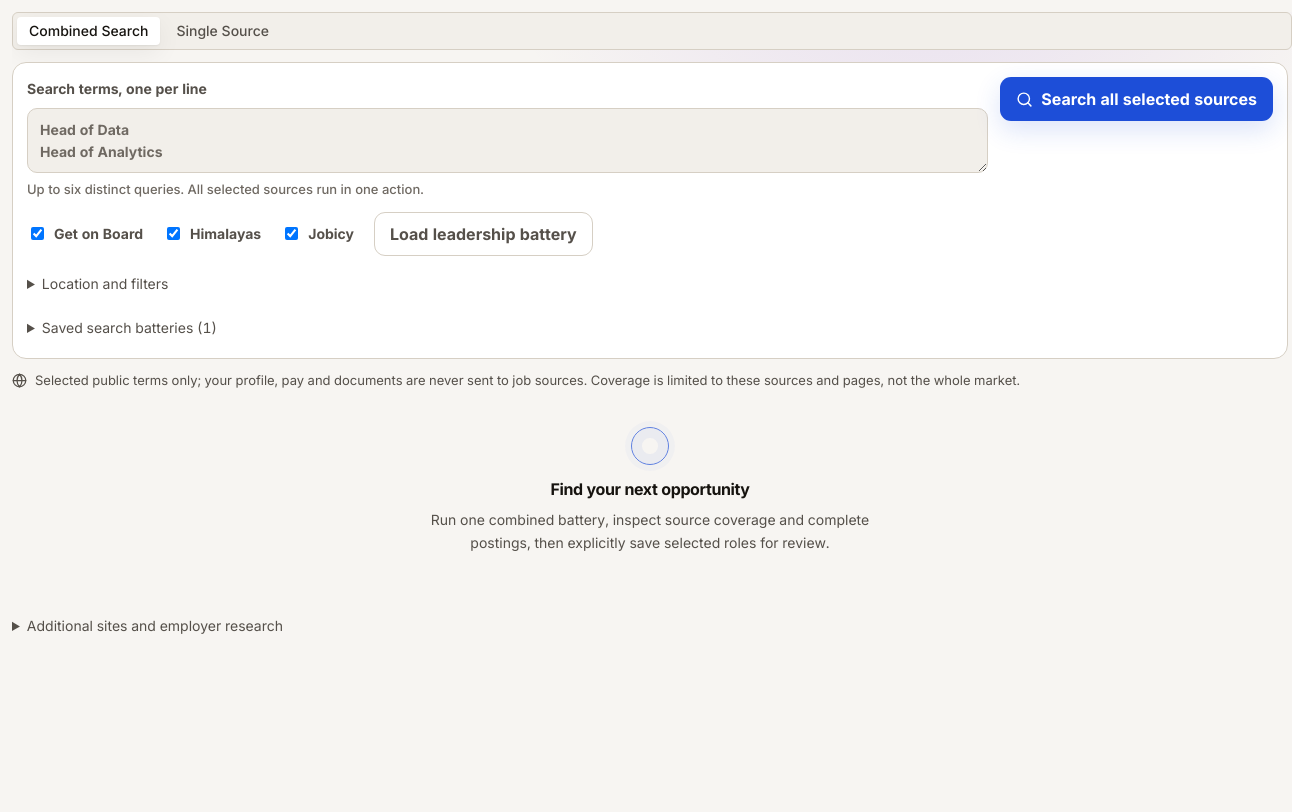
Scenario: loads an irregular saved battery without changing its exact filters or submitting automatically
Click the heading "Saved search batteries (1)".
click(129, 327)  # box [42,319,217,336]
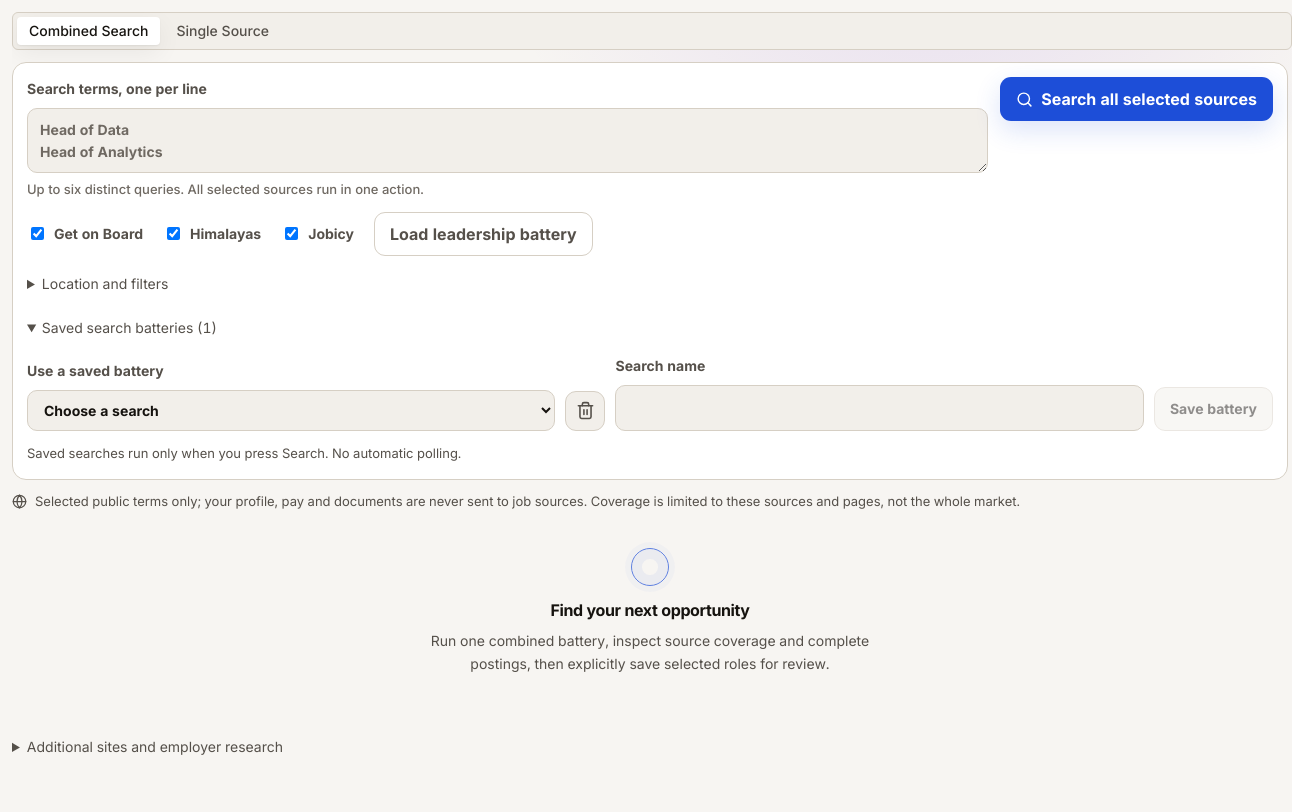
Select "Private targets" in the dropdown labelled "Use a saved battery" at point(291, 410), box [27,390,556,431]
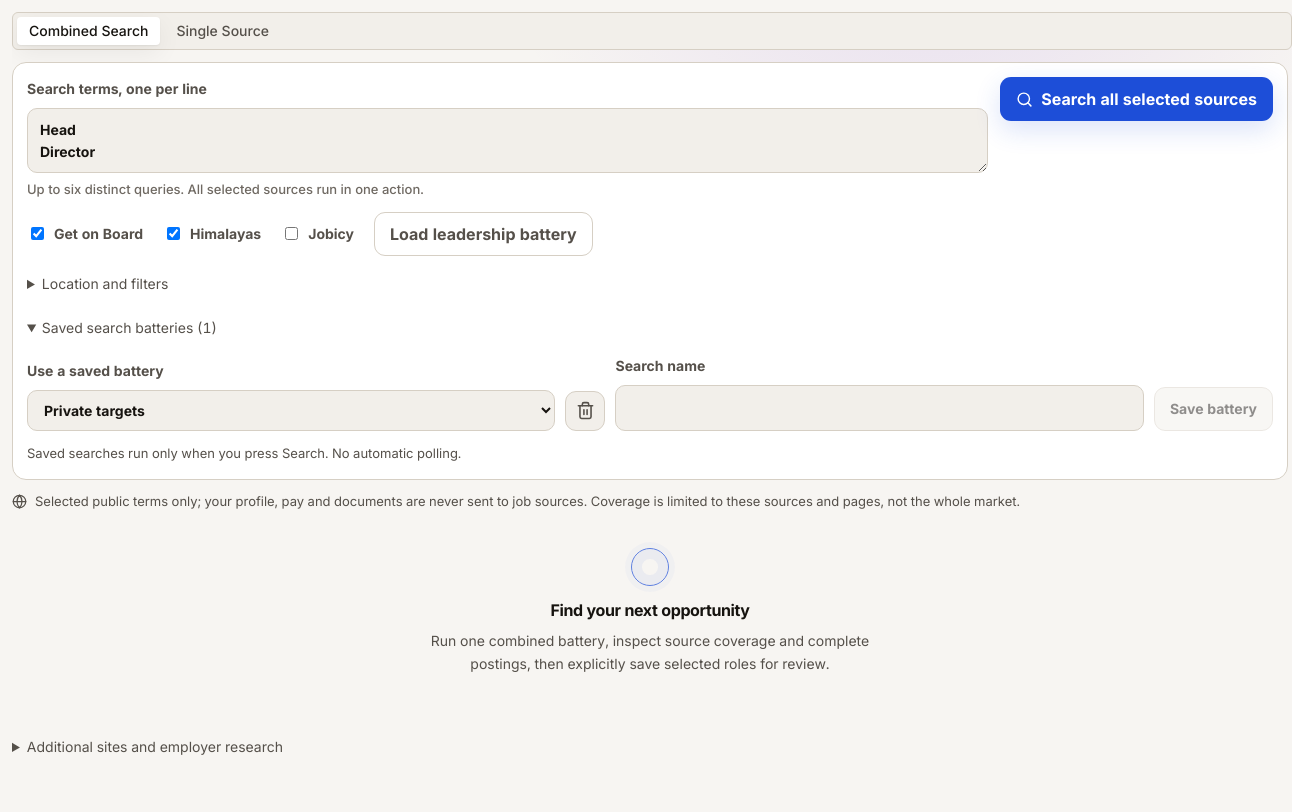
Click the button "Search all selected sources".
click(1137, 99)  # box [1000,77,1273,121]
(page scrolled)
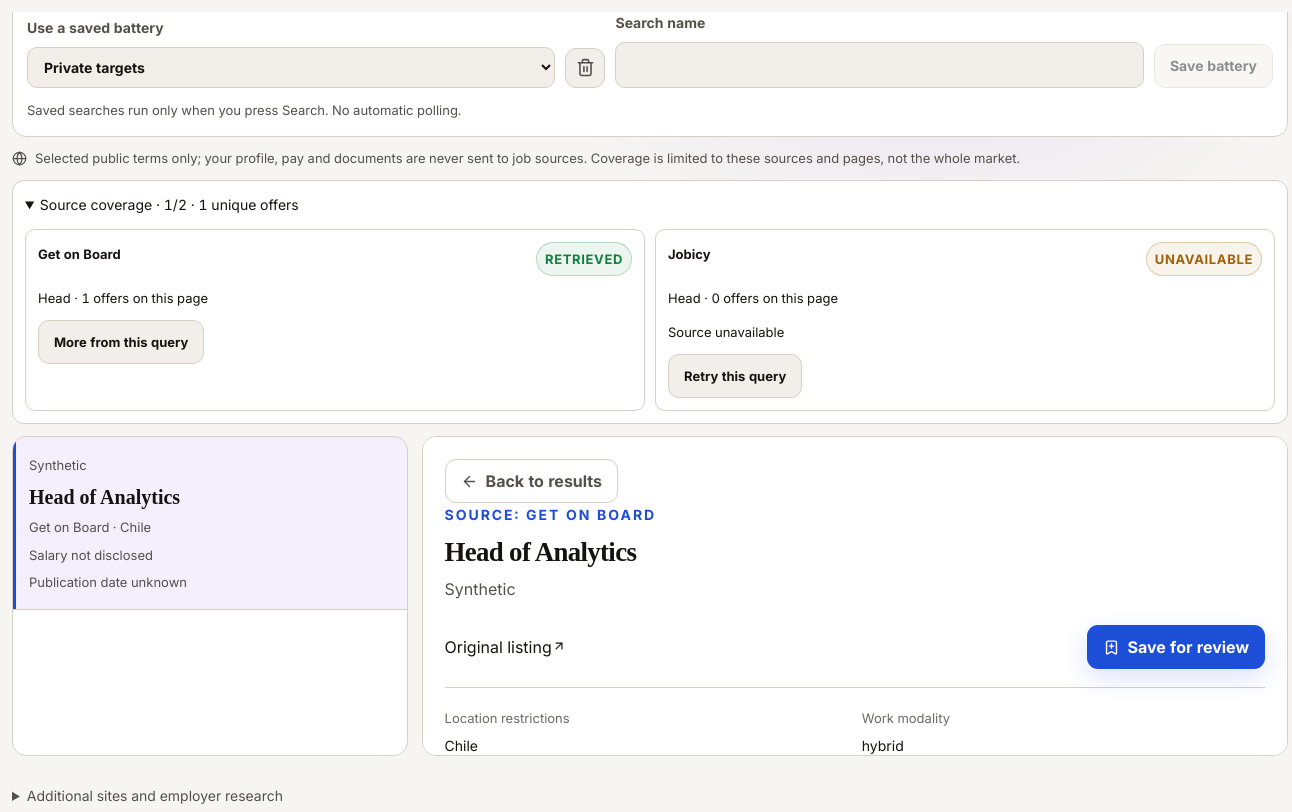
Expected: the heading "Head of Analytics" is shown, [444,537,636,567]
